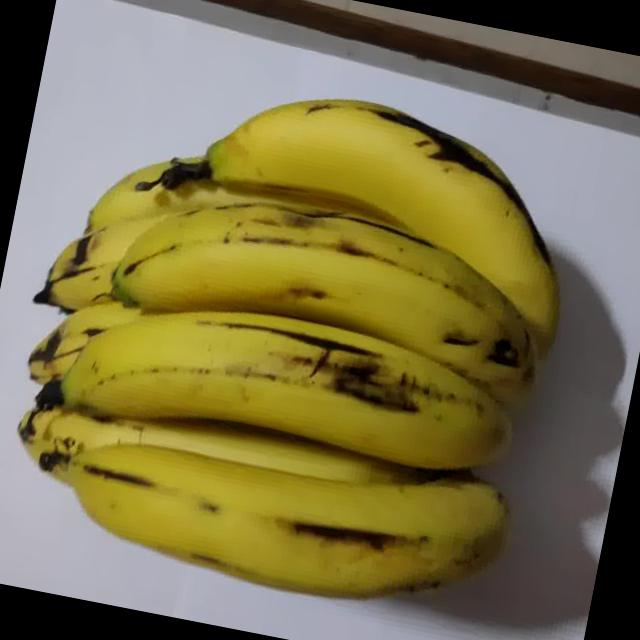banana_pacche: (0, 5, 615, 637)
